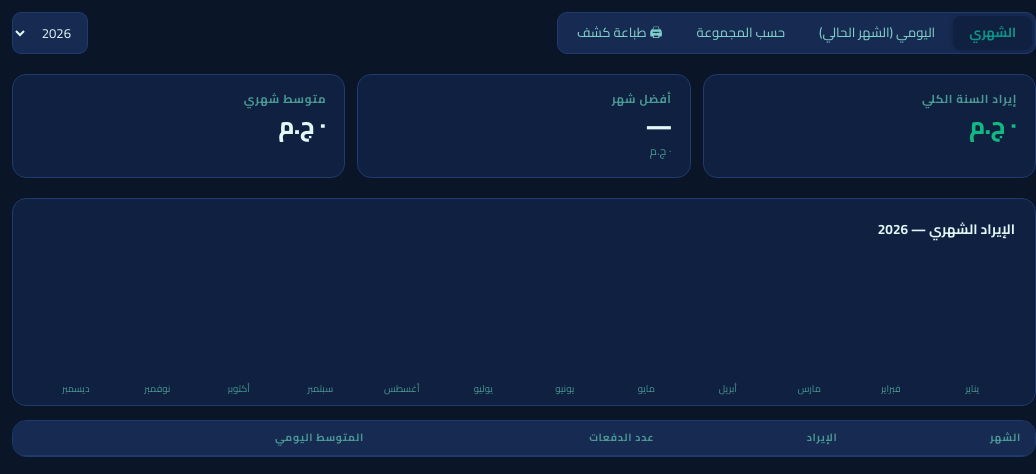
Test: PaymentReports (print tab, "بالطالب" mode) — group-scoped student selector is now searchable › after picking the group, searching by partial Arabic name returns only that group's active students
The width and height of the screenshot is (1036, 474).
Click the button "🖨 طباعة كشف": coordinates (620, 33) [561,16,678,50]
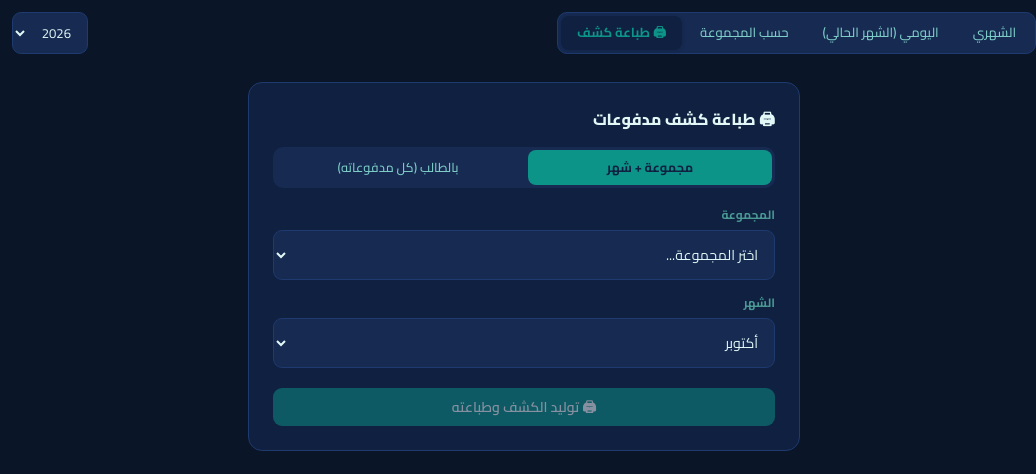
Click the button "بالطالب (كل مدفوعاته)": coordinates (398, 168) [276,150,520,185]
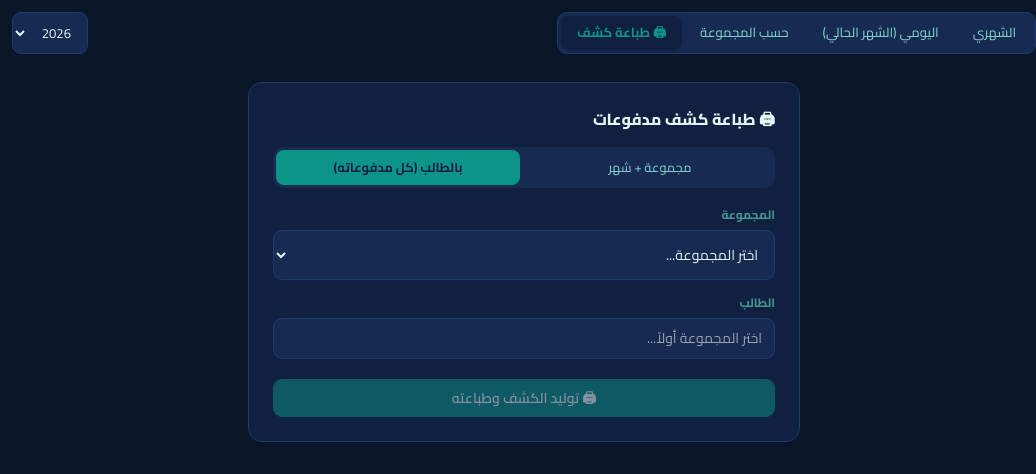
Select "مجموعة أ — الأول الثانوي" in the dropdown below "🖨 طباعة كشف مدفوعات": coordinates (524, 255) [273,230,775,280]
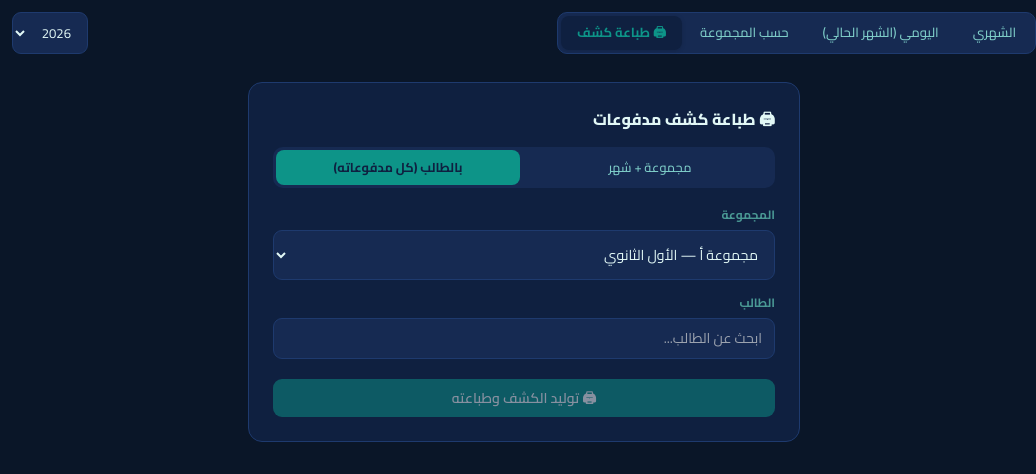
Result: the dropdown with placeholder "ابحث عن الطالب..." is enabled
In the dropdown with placeholder "ابحث عن الطالب...": coordinates (524, 339) [273,318,775,359], type "أشرف"
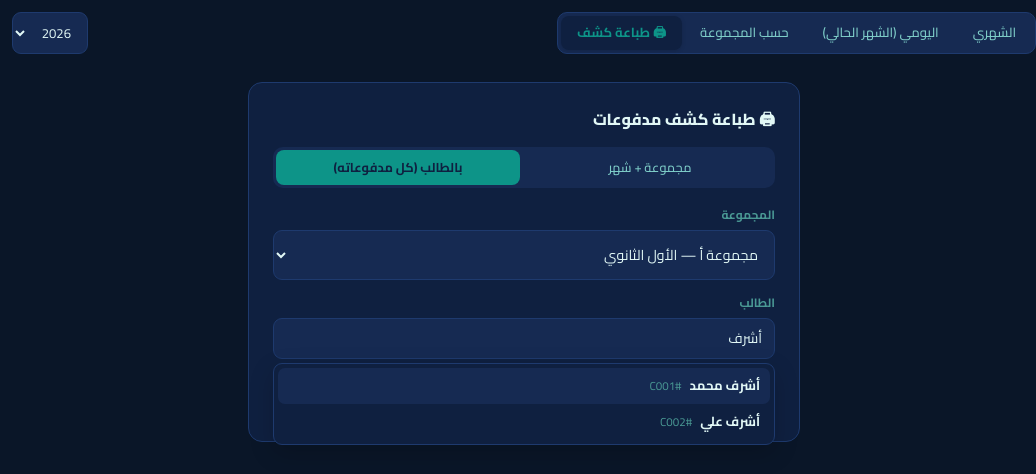
Result: the number of options is 2 at [278,368,770,404]; [660,409,760,433]
Result: the option "أشرف محمد #C001" is shown at [278,368,770,404]
Result: the option "أشرف علي #C002" is shown at [660,409,760,433]
